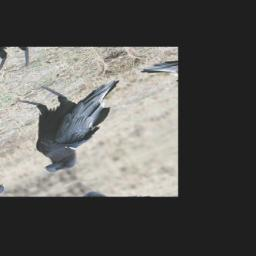Crow: (0, 61, 158, 177)
